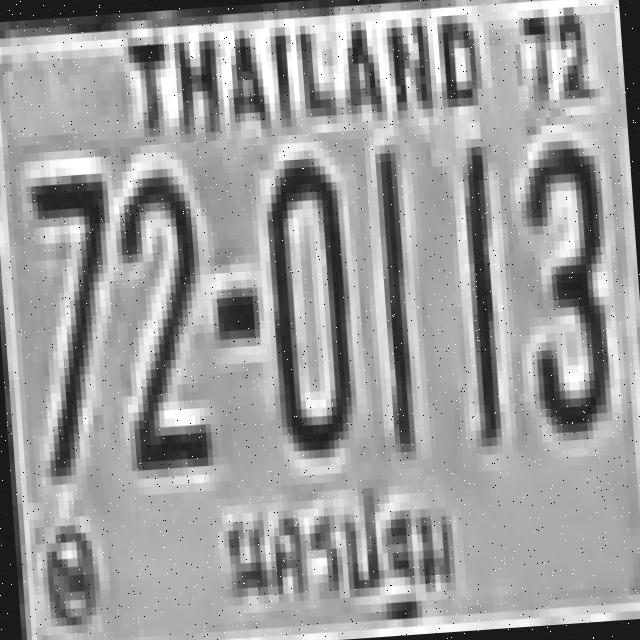0: (258, 148, 354, 452)
1: (458, 142, 504, 442), (369, 144, 415, 444)
2: (110, 162, 208, 466)
3: (516, 130, 612, 426)
7: (24, 164, 121, 476)
NakhonPathom: (209, 472, 474, 640)
